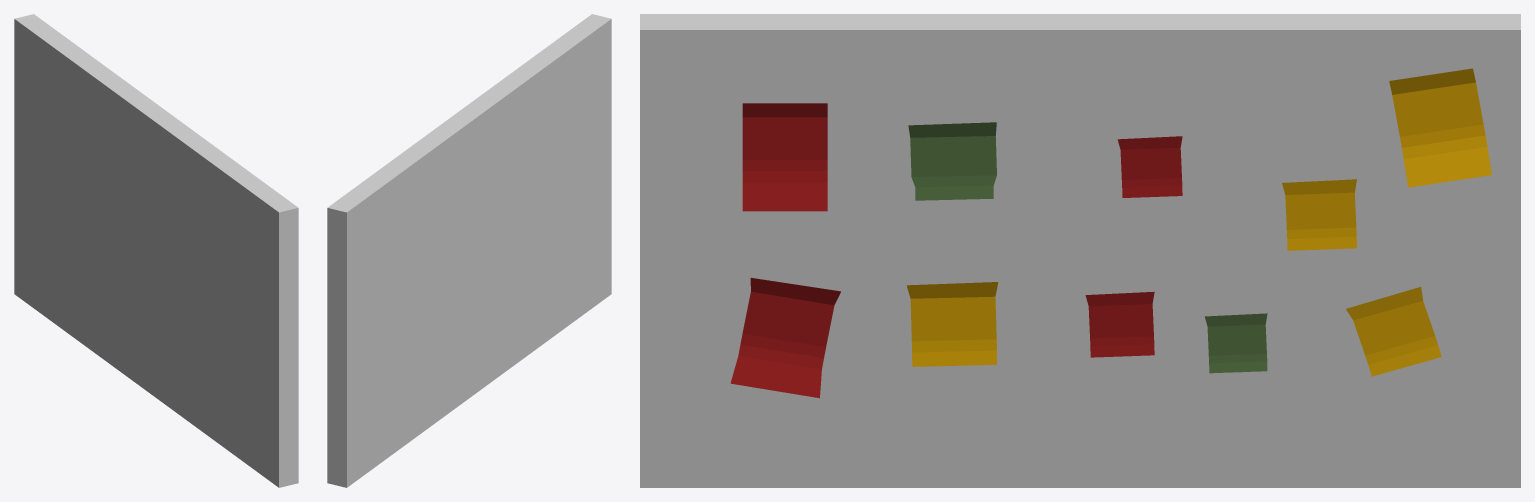
File: Board 1.fbx
3 renders of one model, left to right at view 1: azimuth 30°, elevation 25°; view 2: azimuth 150°, elevation 25°; view 3: azimuth 270°, elevation 25°, orthographic. The views are drawn at different scales.
Visible parts, largest first — view 1: Plane.001; view 2: Plane.001; view 3: Plane.001.
Part boxes in pixels (box(x1,y1,x2,y2)): Plane.001: box(14, 14, 298, 487); Plane.001: box(327, 14, 611, 487); Plane.001: box(640, 14, 1520, 487).
Bounding box in the file's own units: 72.48 × 740 × 1289.
